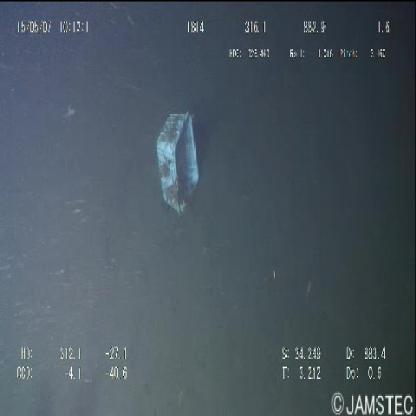Rác: (155, 113, 200, 215)
